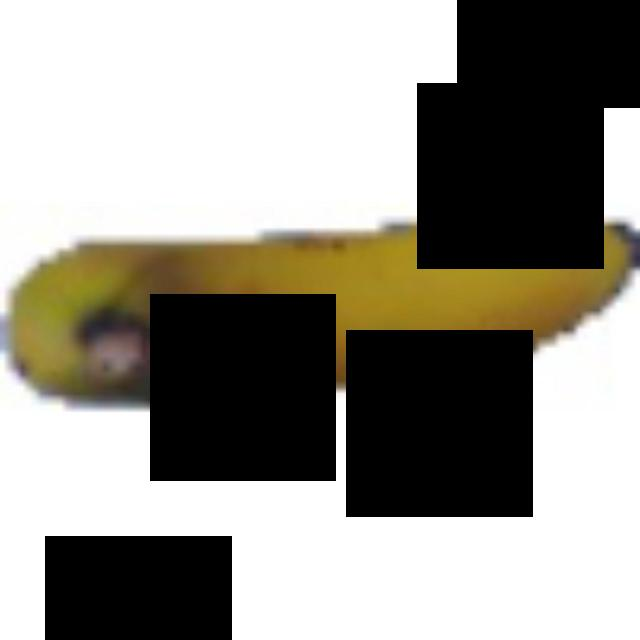banana: (0, 211, 634, 423)
